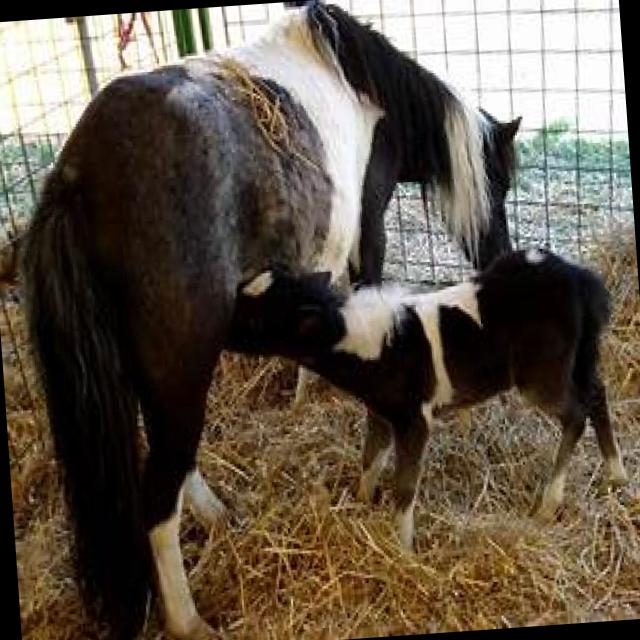horse: (2, 0, 551, 640), (213, 235, 637, 566)
